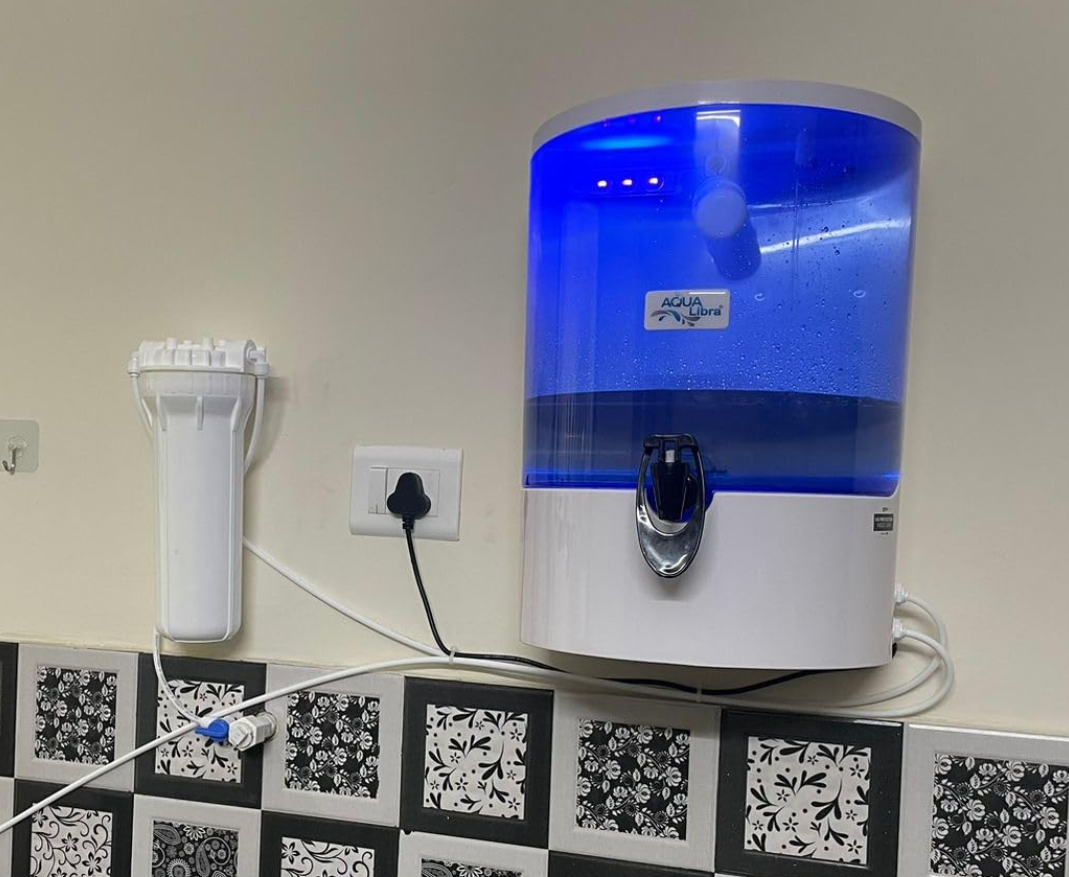water purifier: (516, 84, 925, 675)
